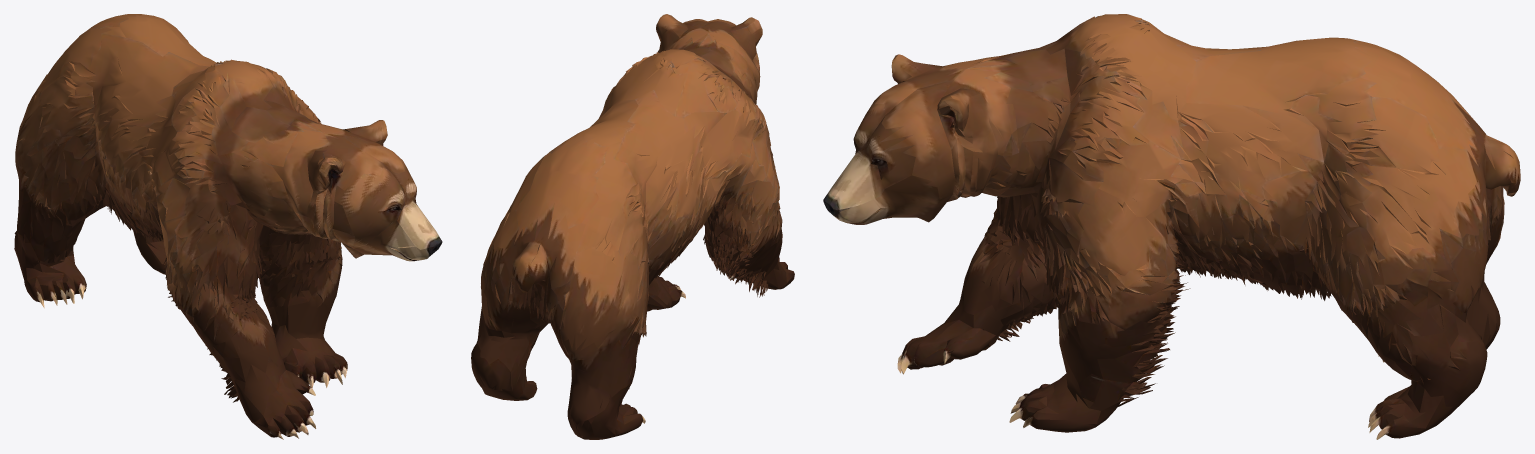
Rendered from grizzly-bear.glb.
3 renders of one model, left to right at view 1: azimuth 30°, elevation 25°; view 2: azimuth 150°, elevation 25°; view 3: azimuth 270°, elevation 25°, orthographic. The views are drawn at different scales.
Bounding box in the file's own units: 0.7107 × 1.12 × 1.9.
1 material, 1 textured.
